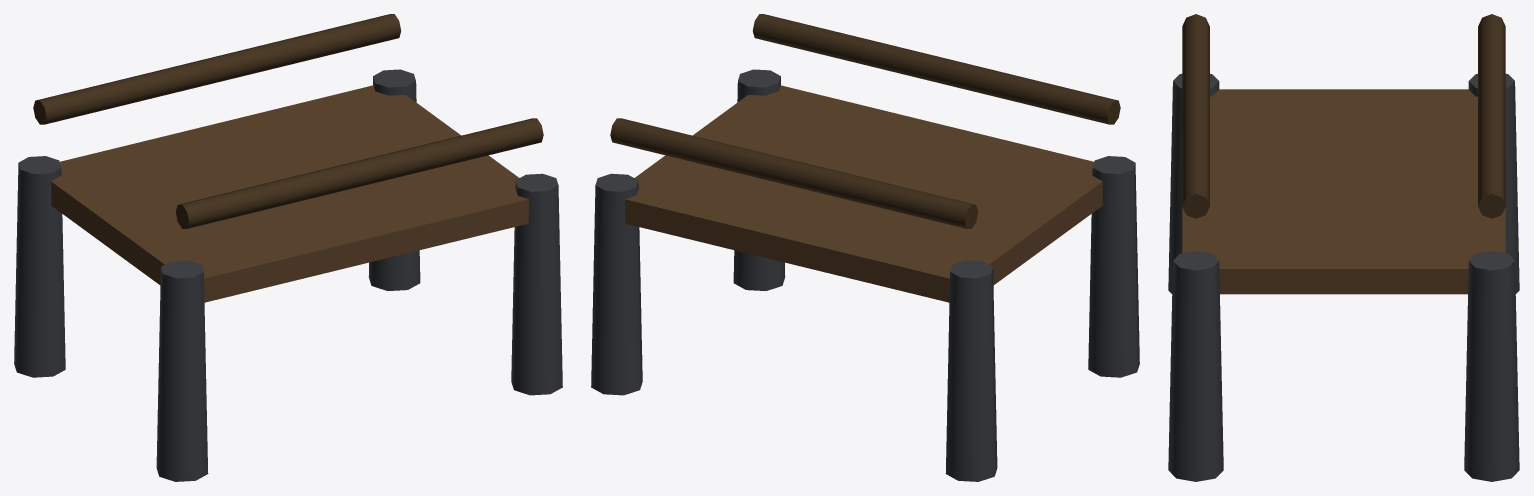
Rendered from bridge.glb.
3 renders of one model, left to right at view 1: azimuth 30°, elevation 25°; view 2: azimuth 150°, elevation 25°; view 3: azimuth 270°, elevation 25°, orthographic. The views are drawn at different scales.
Size of the model in its own units: 1.04 by 0.66 by 0.76.
